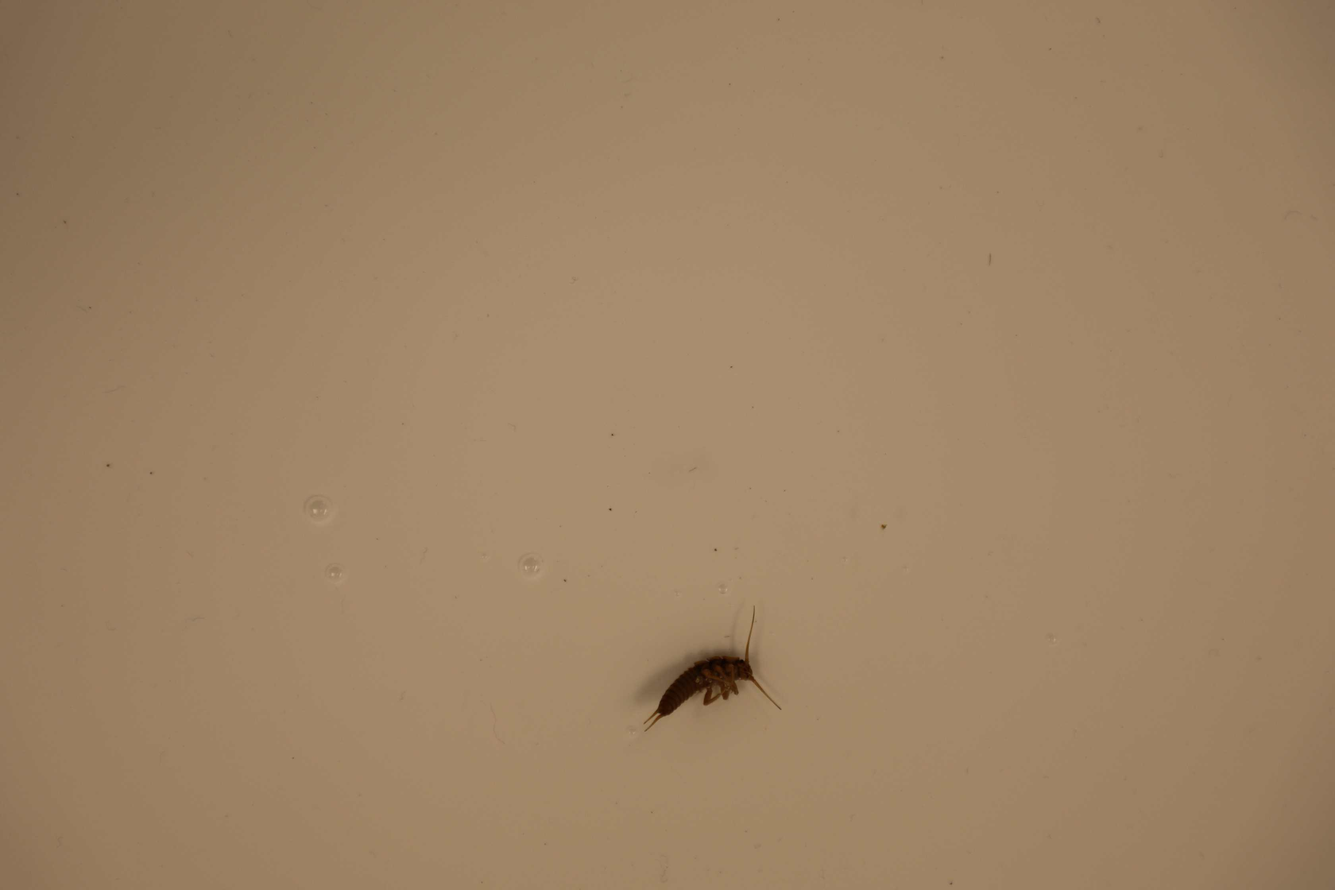Stonefly: (644, 603, 783, 736)
